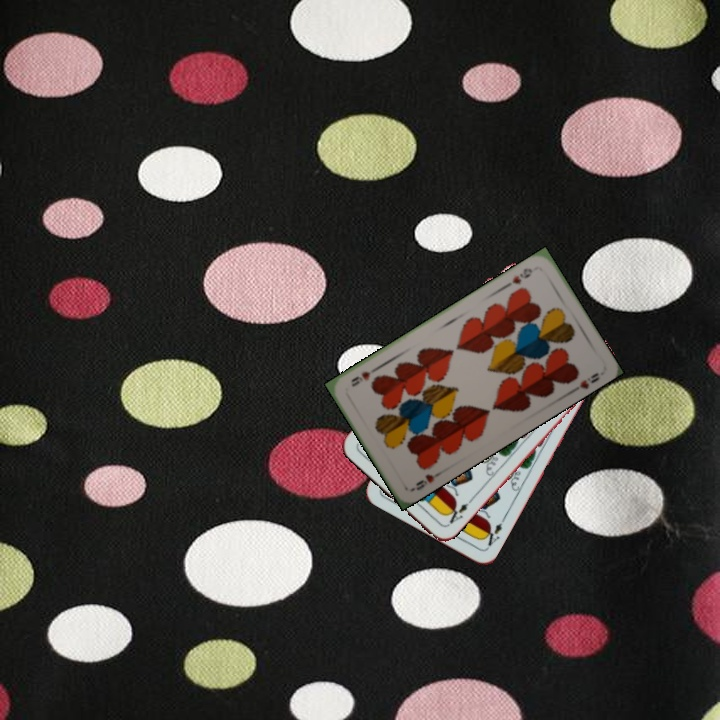EA: (442, 495, 474, 529), (479, 519, 505, 548)
H9: (407, 467, 445, 494), (508, 263, 535, 288)
